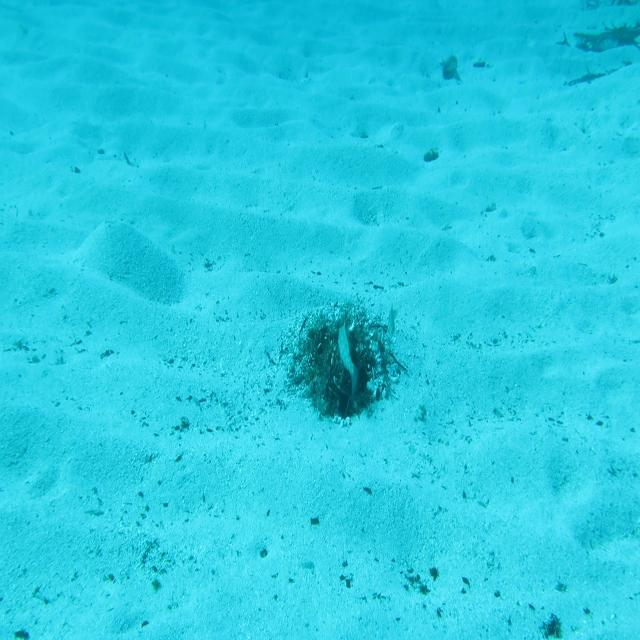NIP_CORE: (335, 316, 368, 401)
female: (385, 302, 404, 343)
nest: (296, 298, 409, 413)
